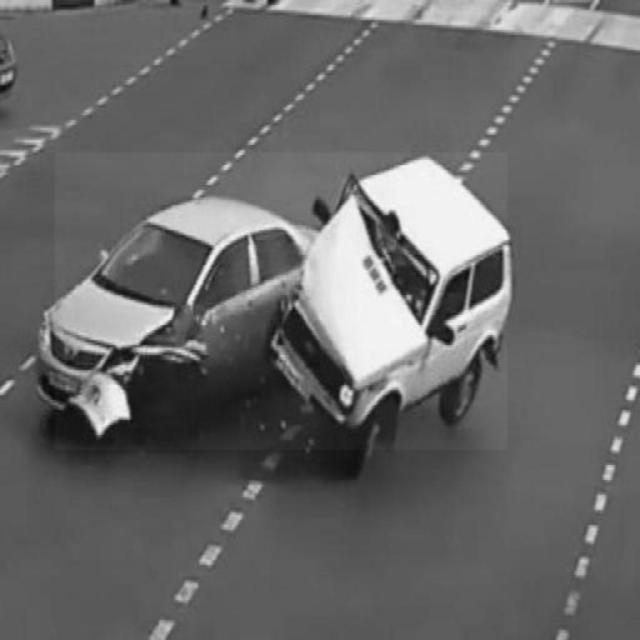accident: (55, 152, 507, 450)
